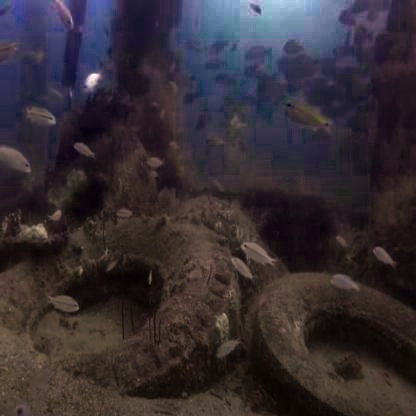tire: (9, 212, 227, 402), (246, 236, 415, 416)
